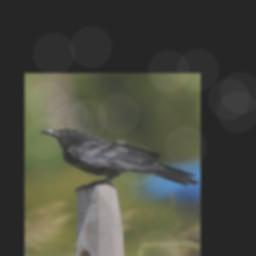Crow: (38, 126, 200, 194)
